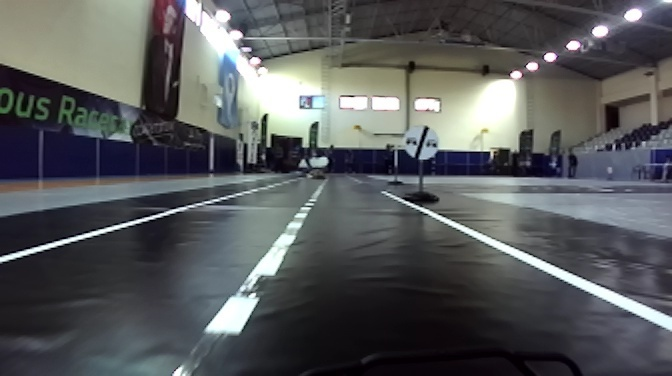sollama_serbest: (402, 124, 440, 160)
